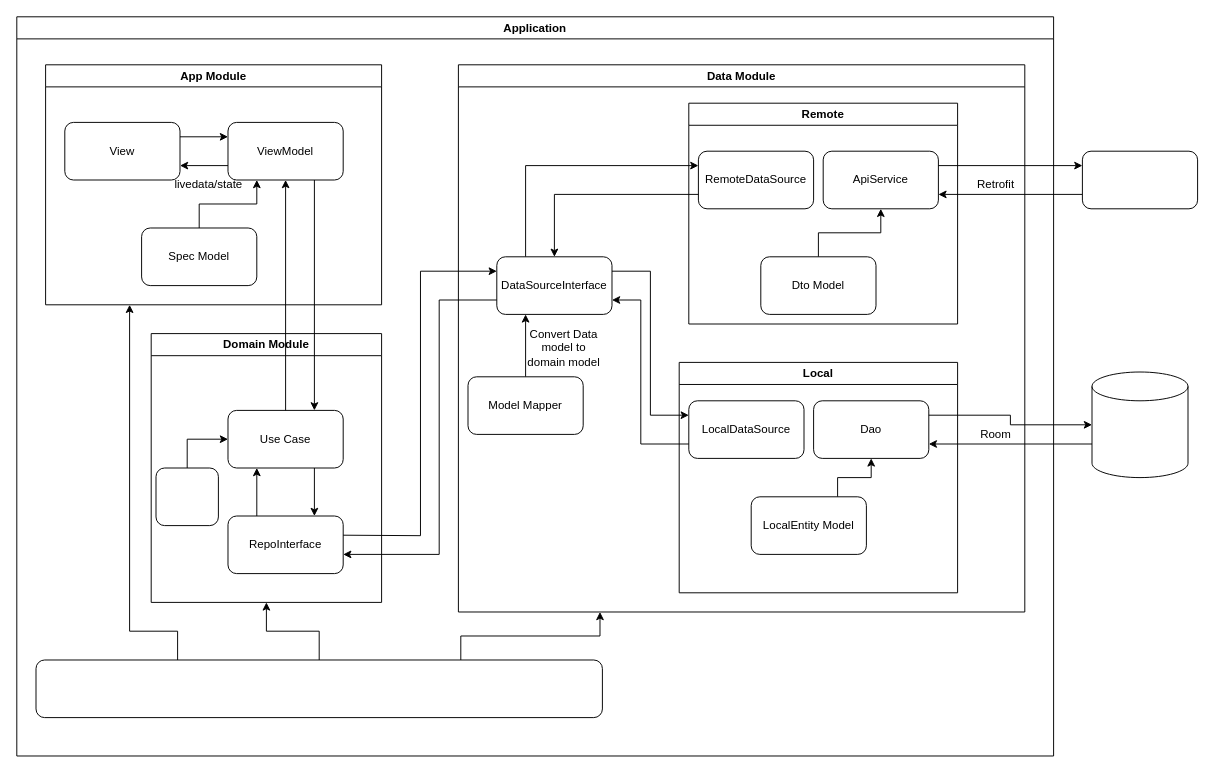
Image size: 1214x773. Some labels were removed from this diagram. Here are the shapes that lost their labels. From the top down, the centre of each, then its label:
At point 1139,179: "Server Endpoint".
At point 1139,424: "Room DB".
At point 186,496: "Domain Model".
At point 318,688: "Hilt DI".
